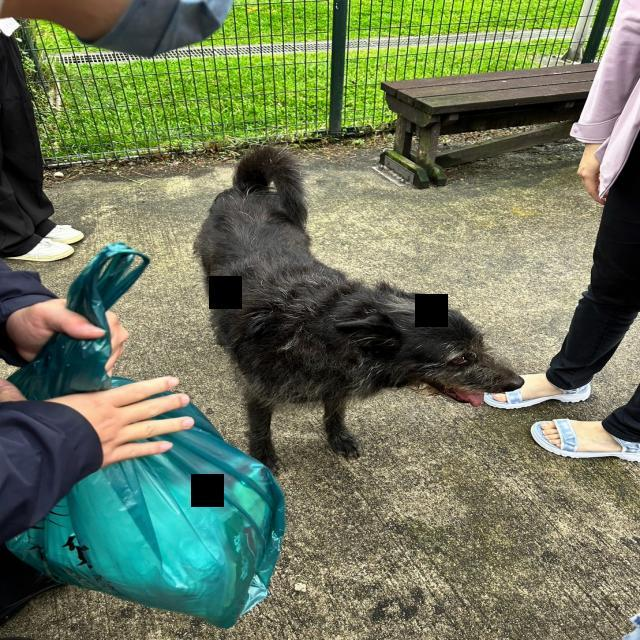adult_dog: (196, 142, 527, 484)
